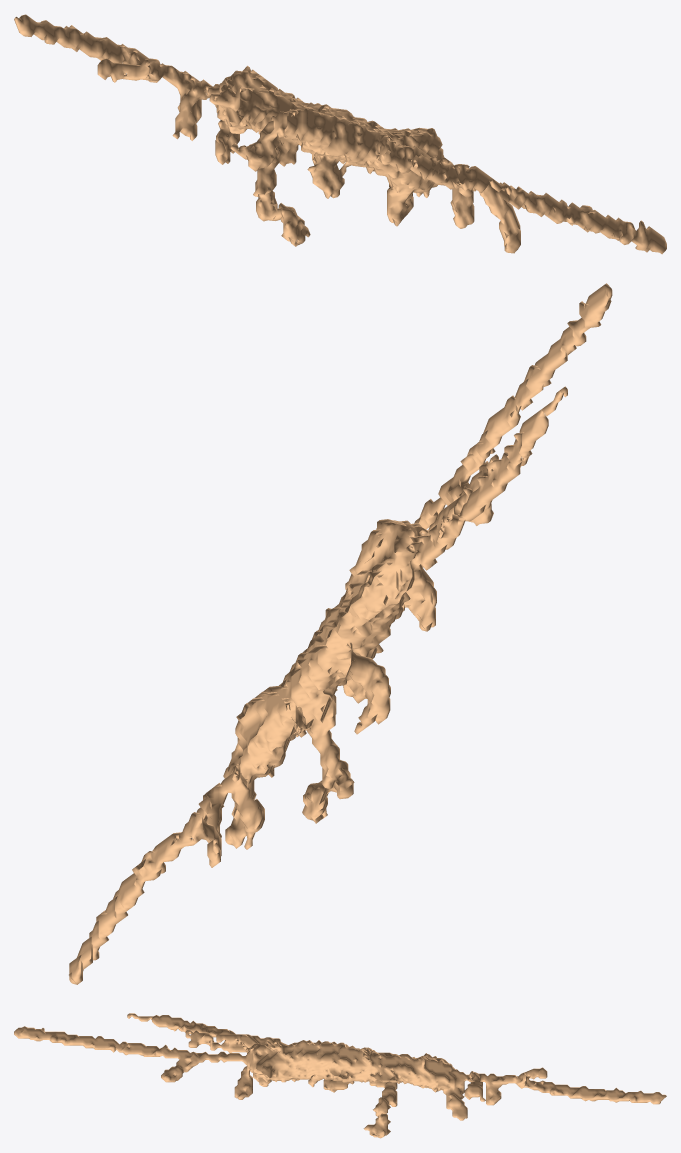
The model's file is osteocyte_71.glb.
3 views of the same model, one above another, from view 1: azimuth 30°, elevation 25°; view 2: azimuth 150°, elevation 25°; view 3: azimuth 270°, elevation 25° (orthographic). The views are drawn at different scales.
Parts seen in each view (by area): view 1: osteocyte_71; view 2: osteocyte_71; view 3: osteocyte_71.
Boxes of the visible parts, left/top/right/bottom form: osteocyte_71: left=14, top=14, right=666, bottom=254; osteocyte_71: left=69, top=283, right=612, bottom=984; osteocyte_71: left=14, top=1013, right=666, bottom=1138.
Size of the model in its own units: 11.62 by 20.57 by 95.23.
